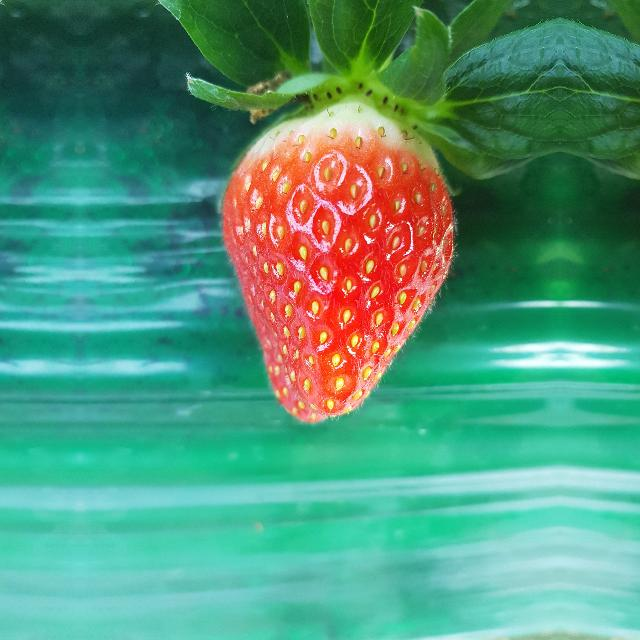Health_100: (220, 100, 458, 423)
